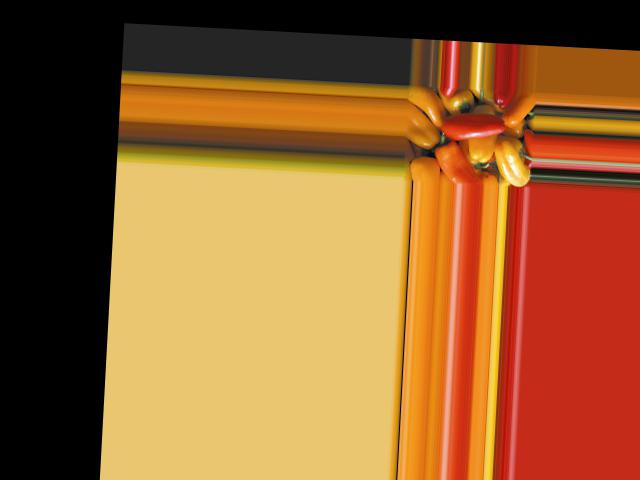bell_pepper: (490, 139, 533, 185)
